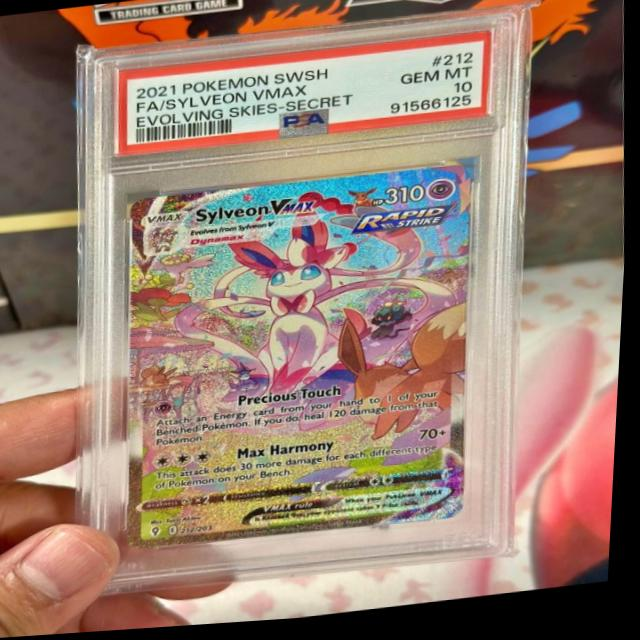card: (131, 170, 475, 552)
